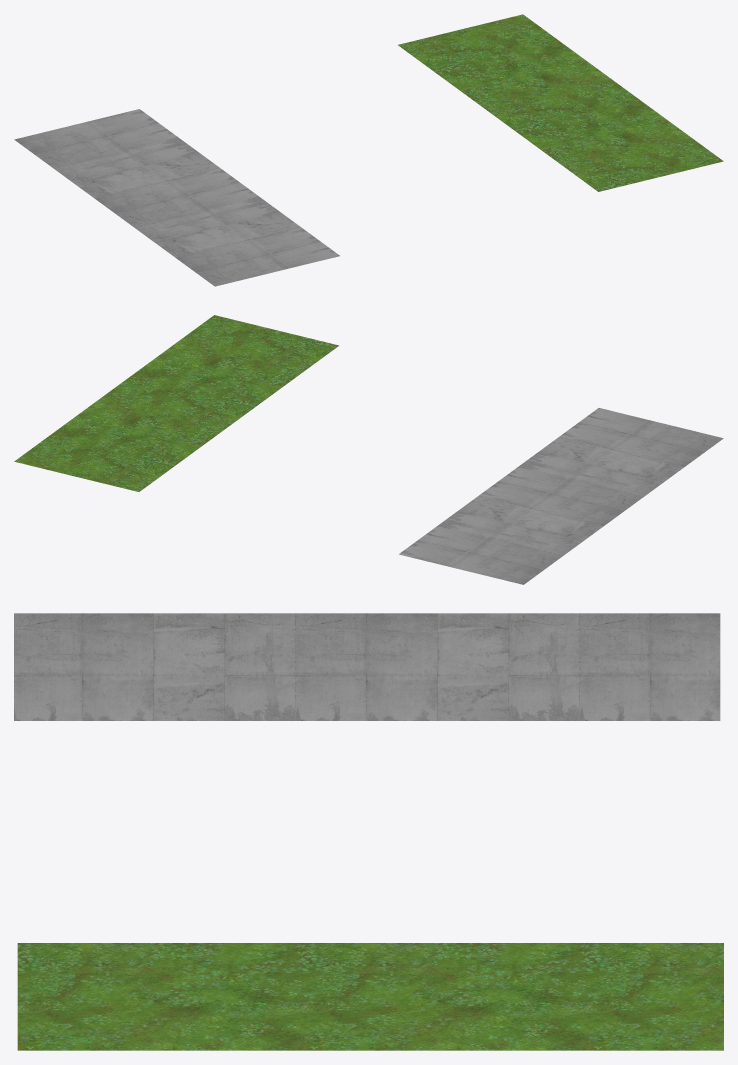
The model's file is Exterior.FBX.
3 views of the same model, one above another, from view 1: azimuth 30°, elevation 25°; view 2: azimuth 150°, elevation 25°; view 3: azimuth 270°, elevation 25° (orthographic). The views are drawn at different scales.
Visible parts, largest first — view 1: Exterior_Grass, Exterior_Concrete; view 2: Exterior_Grass, Exterior_Concrete; view 3: Exterior_Grass, Exterior_Concrete.
Part boxes in pixels (x1=…): Exterior_Grass: x1=398, y1=14, x2=723, y2=191; Exterior_Concrete: x1=14, y1=109, x2=339, y2=286; Exterior_Grass: x1=14, y1=315, x2=338, y2=491; Exterior_Concrete: x1=399, y1=408, x2=723, y2=584; Exterior_Grass: x1=17, y1=943, x2=723, y2=1050; Exterior_Concrete: x1=14, y1=613, x2=720, y2=720.
Bounding box in the file's own units: 1822 × 3.52e-13 × 1250.
Materials: 2 (2 with a texture image).
